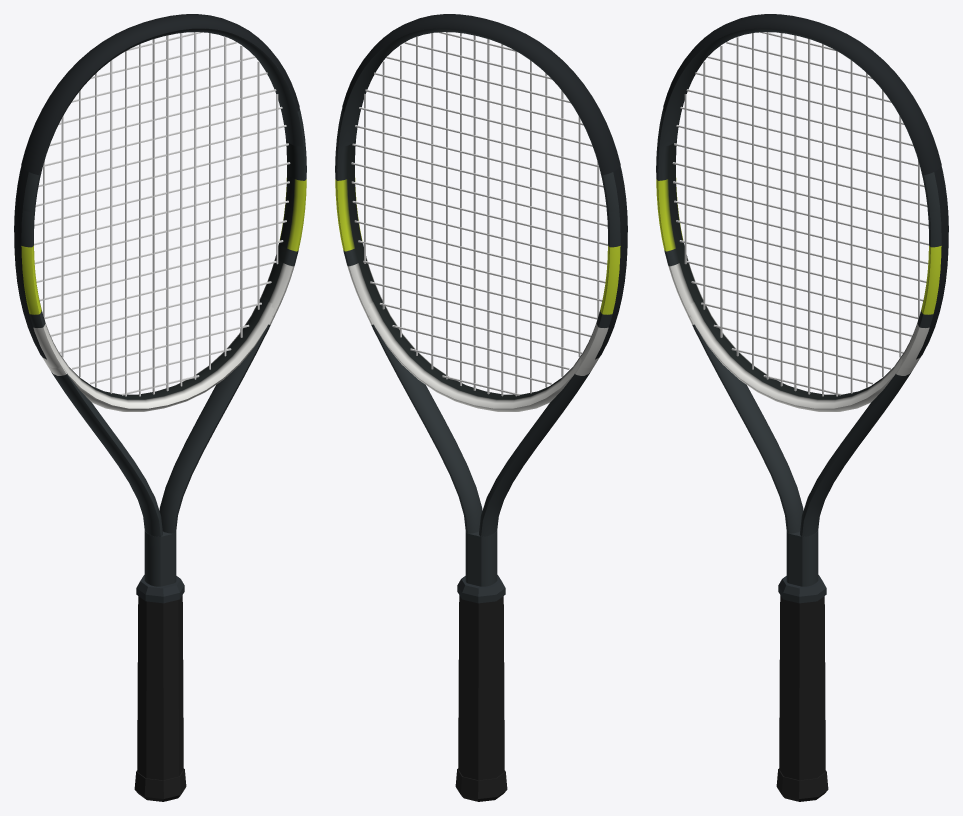
Rendered from babolat-pure-aero-plus-2023gen.glb.
3 views of the same model, side by side, from view 1: azimuth 30°, elevation 25°; view 2: azimuth 150°, elevation 25°; view 3: azimuth 330°, elevation 25° (orthographic).
Parts seen in each view (by area): view 1: frame, strings_mains, strings_crosses, grip, bumper, grommets, butt_cap, collar; view 2: frame, strings_mains, strings_crosses, grip, bumper, grommets, butt_cap, collar; view 3: frame, strings_mains, strings_crosses, grip, bumper, grommets, butt_cap, collar.
Boxes of the visible parts, bbox=[...] form: frame: bbox=[14, 28, 306, 586]; strings_mains: bbox=[43, 32, 278, 396]; strings_crosses: bbox=[34, 32, 290, 395]; grip: bbox=[137, 595, 183, 780]; bumper: bbox=[21, 14, 299, 175]; grommets: bbox=[14, 167, 46, 359]; butt_cap: bbox=[134, 768, 186, 801]; collar: bbox=[136, 575, 184, 603]; frame: bbox=[335, 28, 627, 586]; strings_mains: bbox=[364, 32, 599, 396]; strings_crosses: bbox=[351, 32, 607, 395]; grip: bbox=[458, 595, 504, 780]; bumper: bbox=[342, 14, 620, 175]; grommets: bbox=[595, 167, 627, 359]; butt_cap: bbox=[455, 768, 507, 801]; collar: bbox=[457, 575, 505, 603]; frame: bbox=[656, 28, 948, 586]; strings_mains: bbox=[684, 32, 919, 396]; strings_crosses: bbox=[672, 32, 928, 395]; grip: bbox=[779, 595, 825, 780]; bumper: bbox=[663, 14, 941, 175]; grommets: bbox=[916, 167, 948, 359]; butt_cap: bbox=[776, 768, 828, 801]; collar: bbox=[778, 575, 826, 603].
Bounding box in the file's own units: 0.2718 × 0.6988 × 0.0396.
